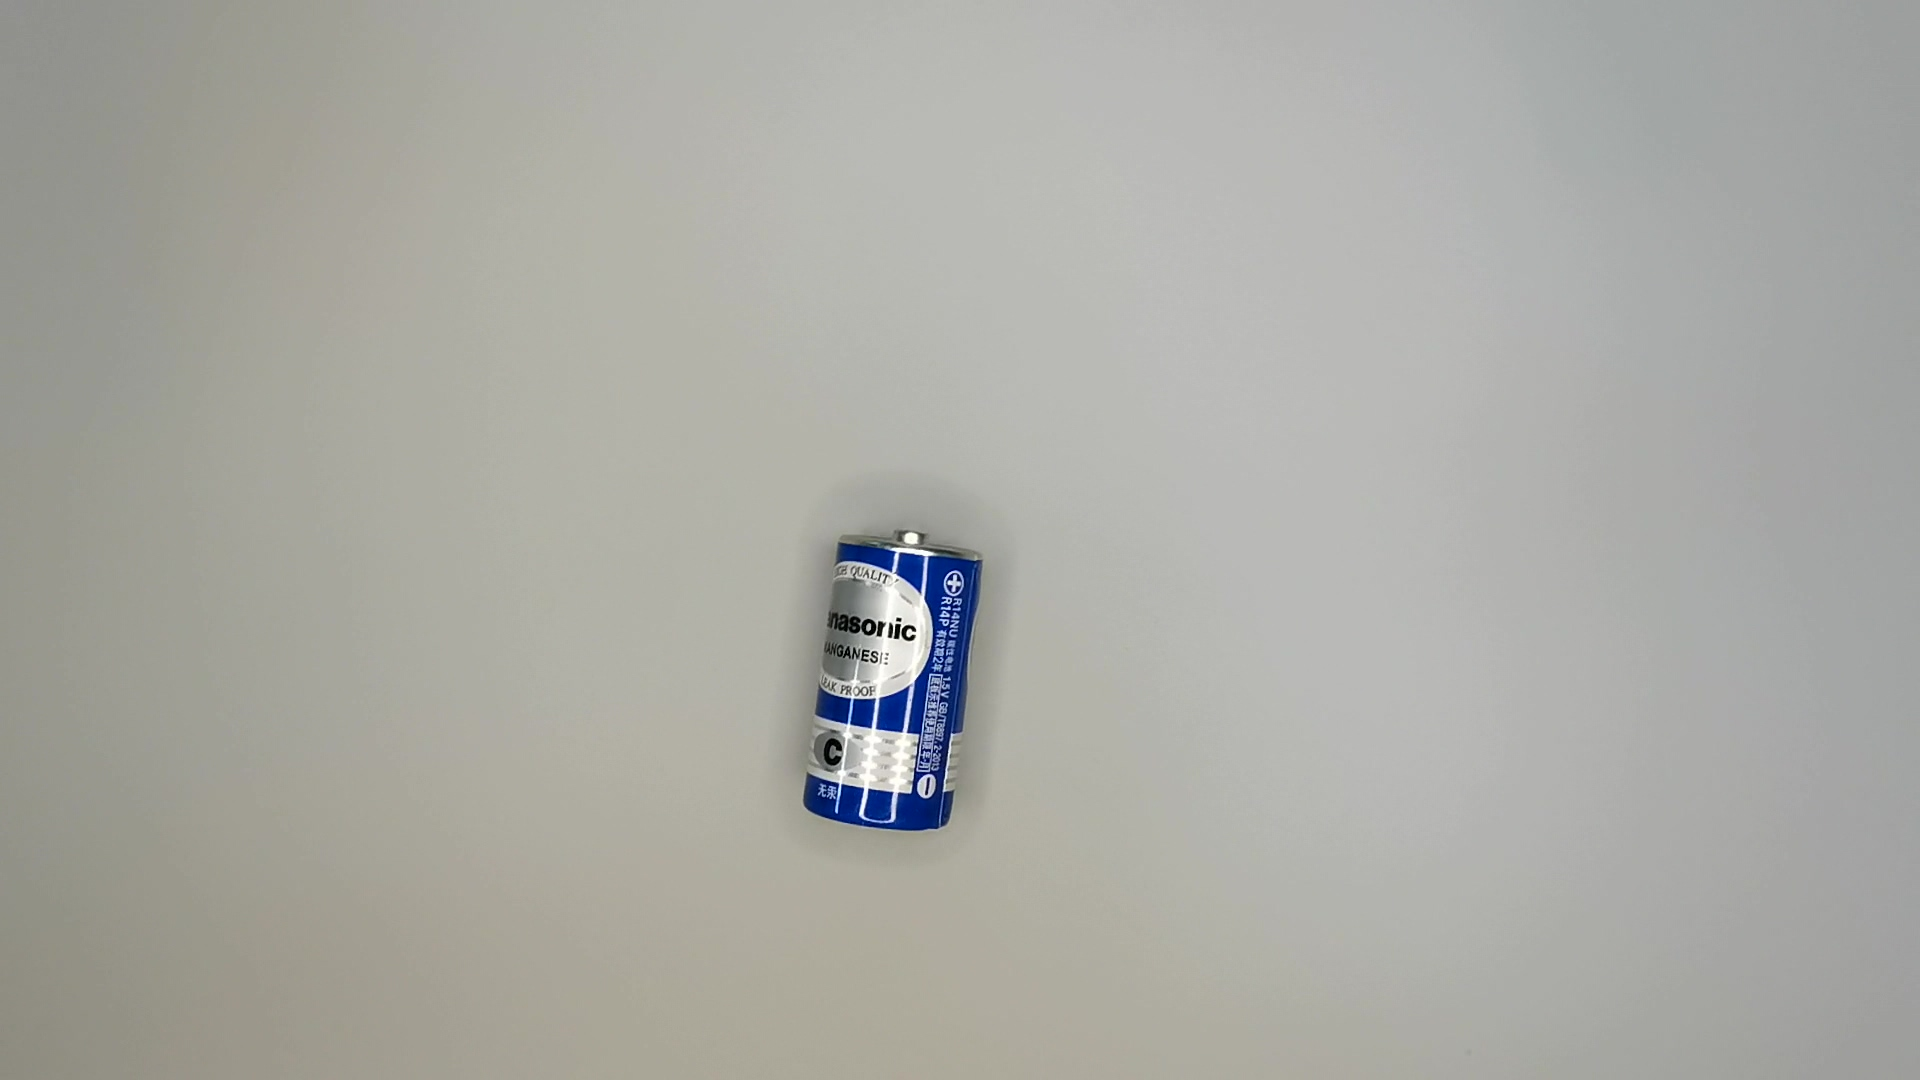battery: (785, 520, 996, 837)
